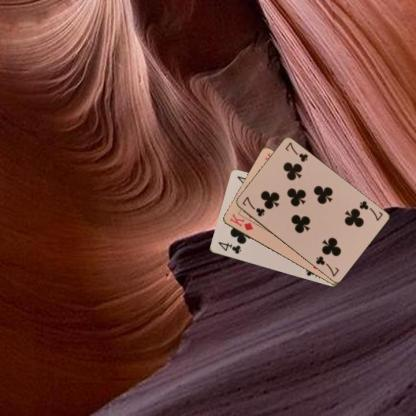4c: (216, 240, 243, 256)
7c: (356, 198, 384, 222), (239, 194, 266, 218)
Kd: (227, 210, 254, 233)
